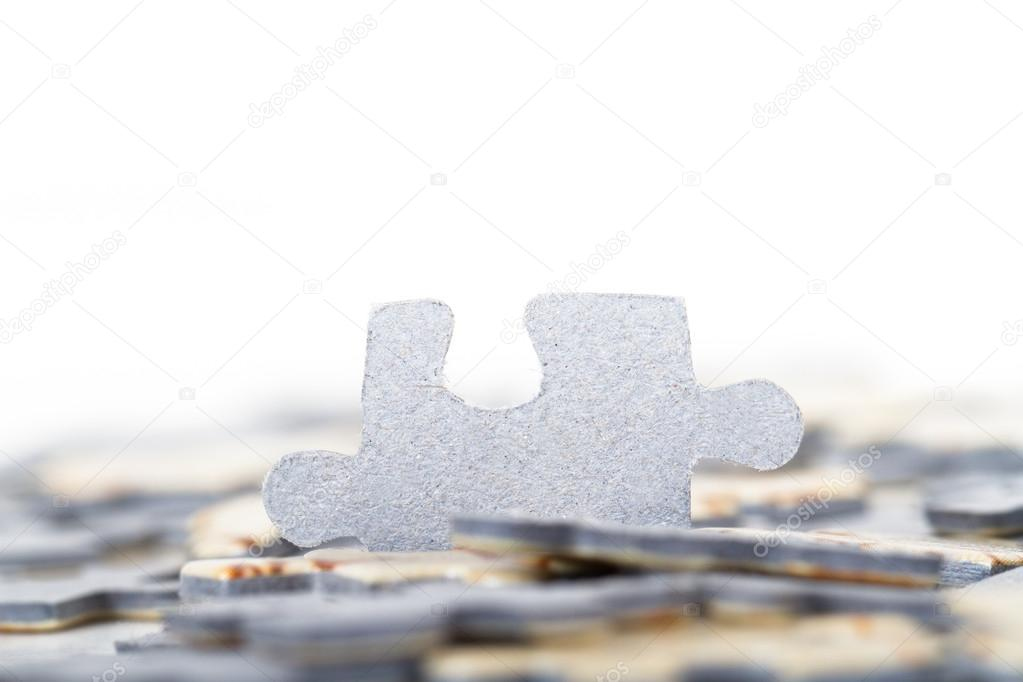puzzle piece: (229, 235, 829, 588)
